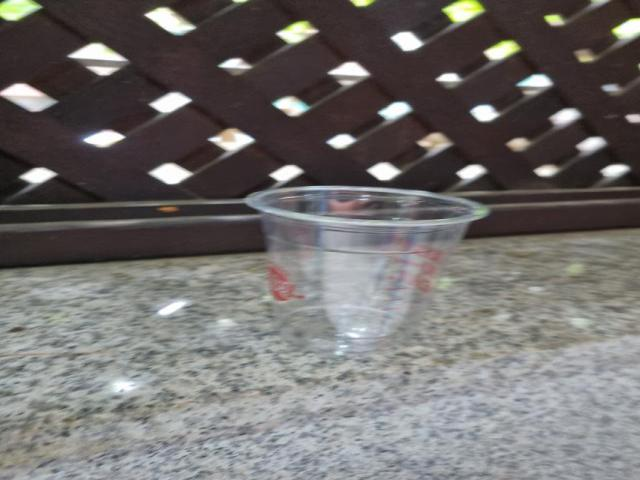cup: (232, 178, 496, 359)
